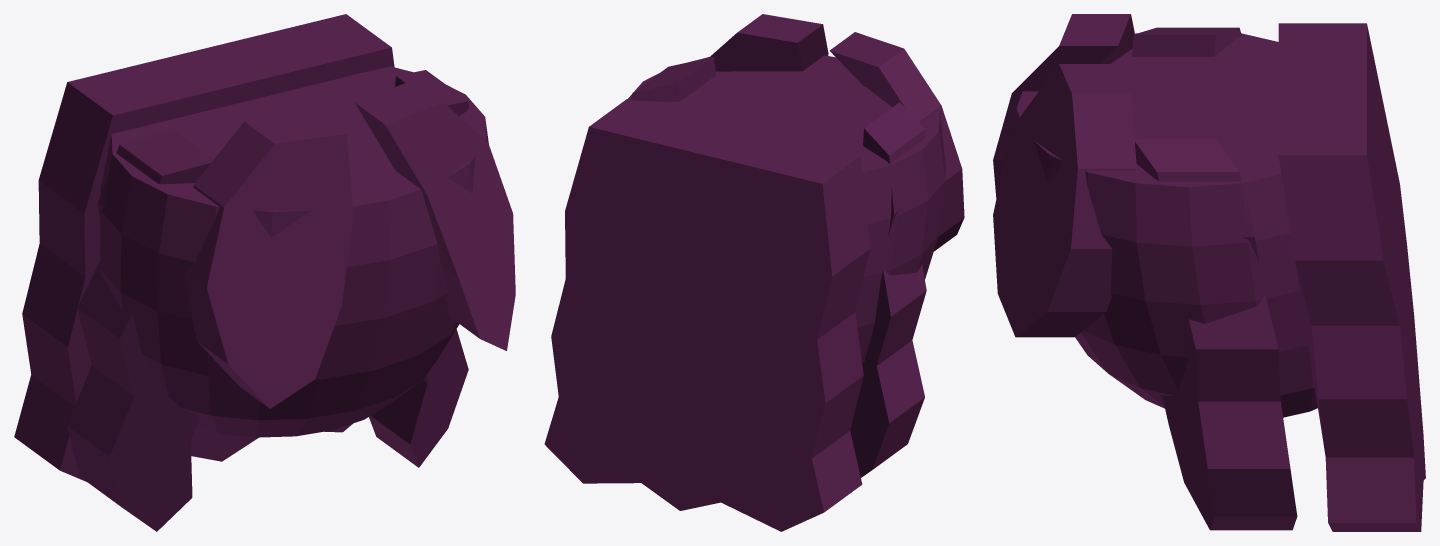
File: hair_girl_wavy_lob_01.glb
The picture shows the model from 3 angles, left to right: view 1: azimuth 30°, elevation 25°; view 2: azimuth 150°, elevation 25°; view 3: azimuth 270°, elevation 25°; orthographic projection. The views are drawn at different scales.
Parts seen in each view (by area): view 1: WavyLob_Cap, WavyLob_BackWave, WavyLob_CurtainBang_L, WavyLob_Wave_L, WavyLob_CurtainBang_R, WavyLob_Wave_R; view 2: WavyLob_BackWave, WavyLob_Cap, WavyLob_Wave_L, WavyLob_CurtainBang_L, WavyLob_CurtainBang_R, WavyLob_Wave_R; view 3: WavyLob_BackWave, WavyLob_Cap, WavyLob_CurtainBang_R, WavyLob_Wave_R, WavyLob_CurtainBang_L, WavyLob_Wave_L.
Part boxes in pixels (x1,y1,x2,y2): WavyLob_Cap: (99, 66, 488, 437); WavyLob_BackWave: (14, 14, 394, 481); WavyLob_CurtainBang_L: (185, 111, 353, 408); WavyLob_Wave_L: (67, 130, 213, 531); WavyLob_CurtainBang_R: (354, 80, 515, 350); WavyLob_Wave_R: (369, 70, 469, 467); WavyLob_BackWave: (544, 99, 870, 531); WavyLob_Cap: (628, 55, 945, 364); WavyLob_Wave_L: (850, 102, 926, 477); WavyLob_CurtainBang_L: (829, 32, 964, 251); WavyLob_CurtainBang_R: (709, 14, 828, 71); WavyLob_Wave_R: (630, 57, 716, 102); WavyLob_BackWave: (1278, 23, 1425, 531); WavyLob_Cap: (1015, 33, 1317, 417); WavyLob_CurtainBang_R: (993, 64, 1136, 337); WavyLob_Wave_R: (1134, 139, 1297, 530); WavyLob_CurtainBang_L: (993, 14, 1134, 198); WavyLob_Wave_L: (1132, 27, 1241, 56).
Size of the model in its own units: 0.34 by 0.397 by 0.367.
